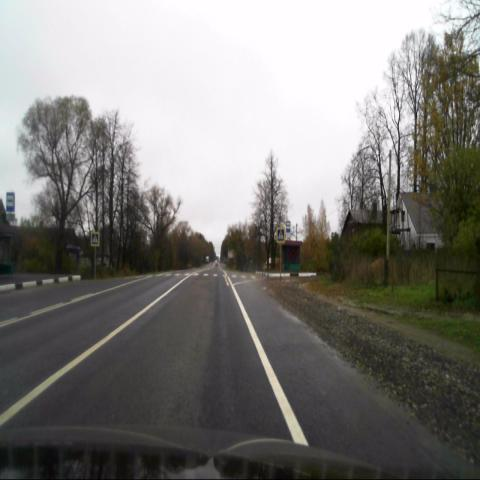5_16: (6, 191, 14, 212)
5_19_1: (276, 227, 285, 243), (91, 231, 99, 246)
